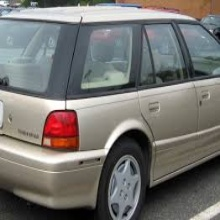no damage: (1, 7, 220, 220)
